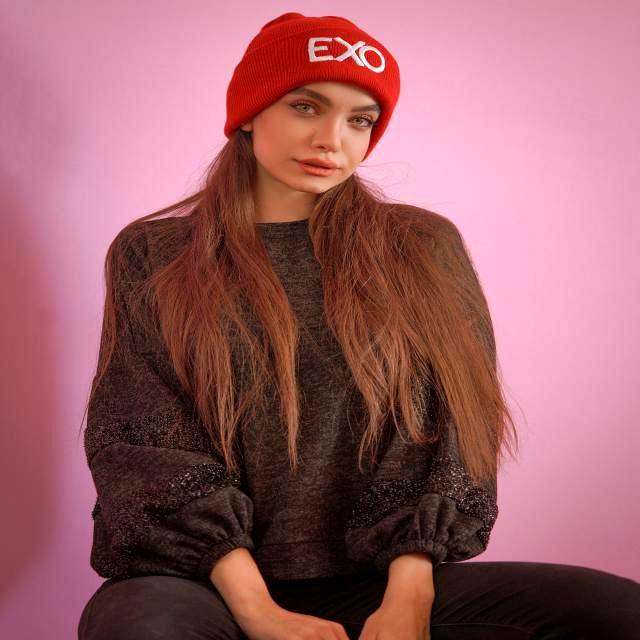no_hard_hat: (224, 13, 400, 158)
person: (78, 13, 639, 640)
